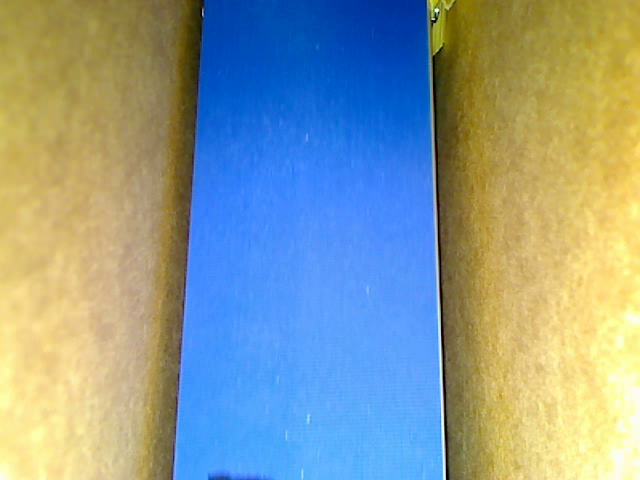penne: (430, 1, 447, 57), (439, 1, 456, 14), (429, 1, 442, 11)
